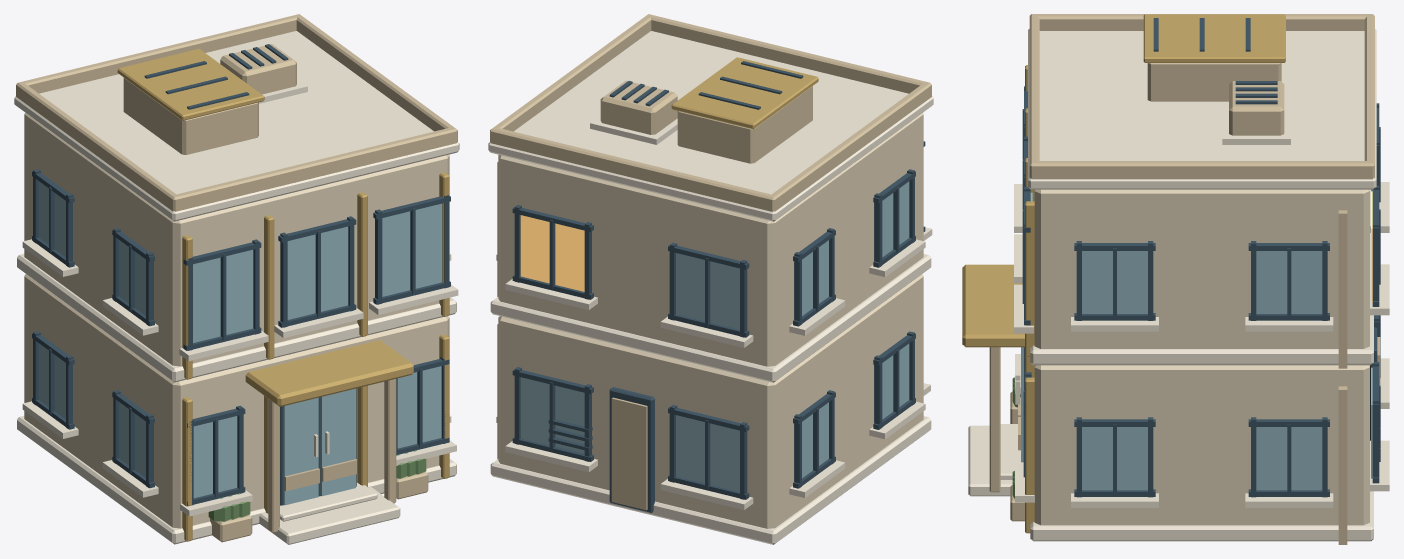
File: office-l02.glb
3 views of the same model, side by side, from view 1: azimuth 30°, elevation 25°; view 2: azimuth 150°, elevation 25°; view 3: azimuth 270°, elevation 25° (orthographic). The views are drawn at different scales.
Parts seen in each view (by area): view 1: office_L02; view 2: office_L02; view 3: office_L02.
Part boxes in pixels (x1,y1,x2,y2): office_L02: (14, 14, 459, 544); office_L02: (488, 14, 933, 544); office_L02: (962, 14, 1389, 544).
Bounding box in the file's own units: 4.62 × 5.42 × 5.09.
